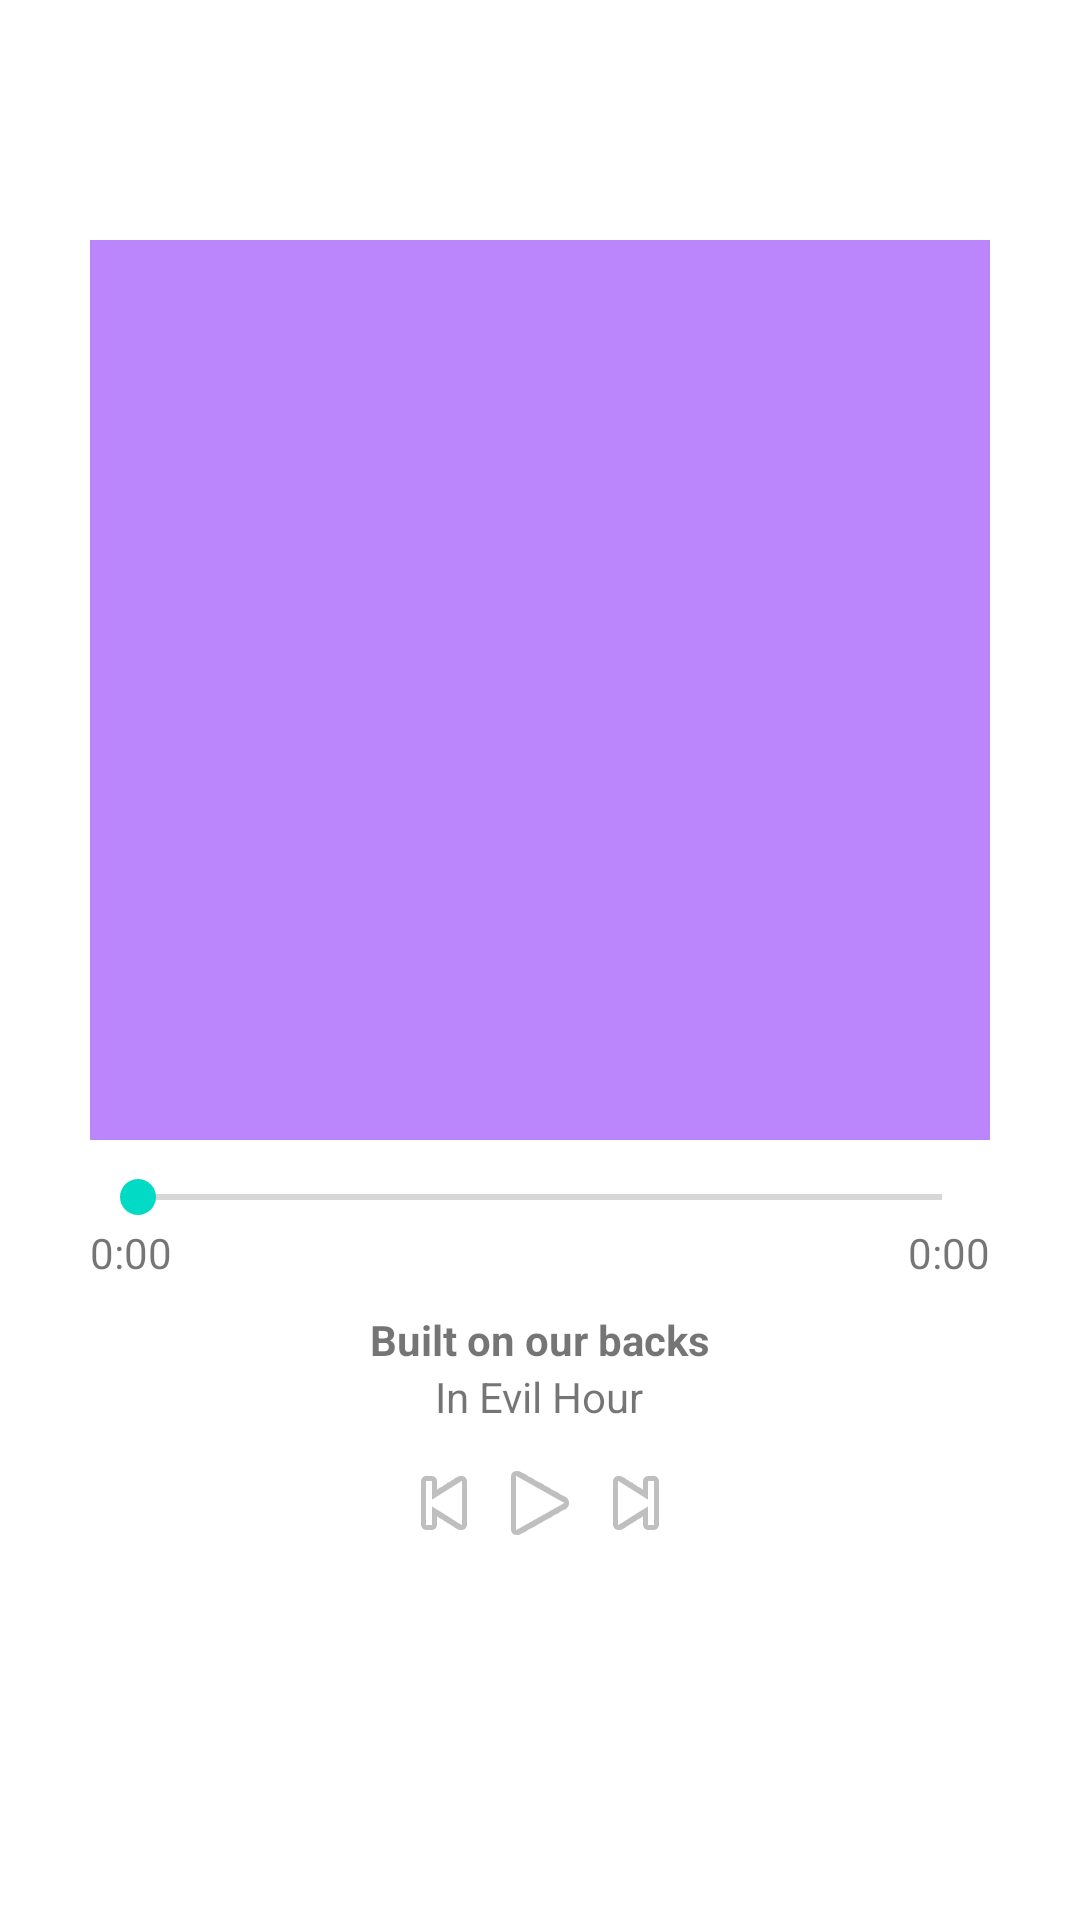

Where icons sit on this 1080x1920 app screen, as (x1, y1, x2, y2):
next: (613, 1476, 659, 1530)
play: (511, 1471, 569, 1535)
previous: (421, 1476, 467, 1530)
